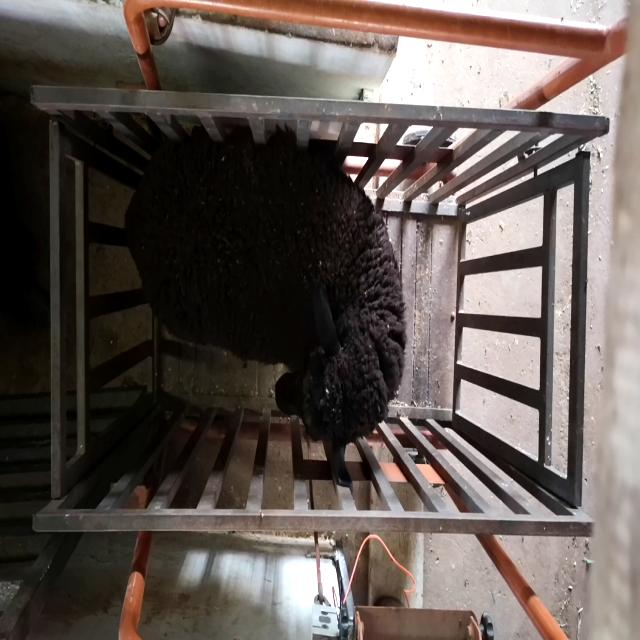sheep: (125, 127, 406, 498)
